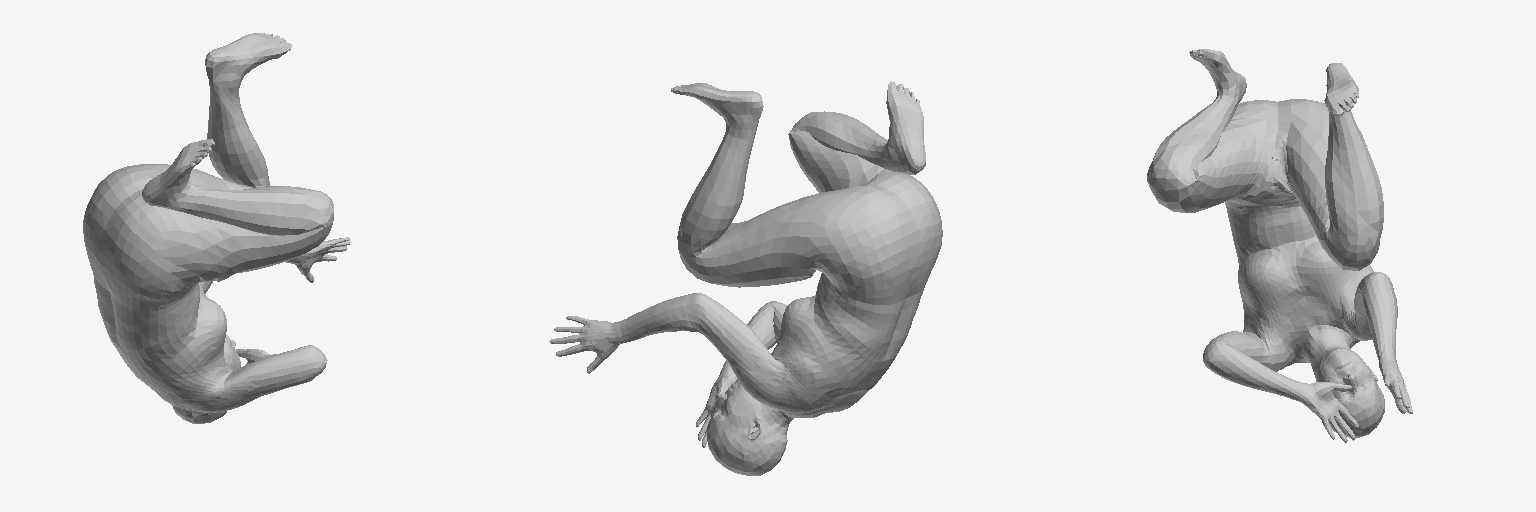
The model's file is posed_human.obj.
The picture shows the model from 3 angles: view 1: azimuth 30°, elevation 25°; view 2: azimuth 150°, elevation 25°; view 3: azimuth 270°, elevation 25°; orthographic projection.
Size of the model in its own units: 0.8773 by 1.01 by 0.6538.